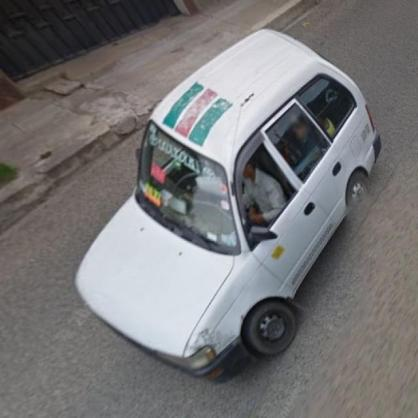car: (75, 28, 389, 381)
